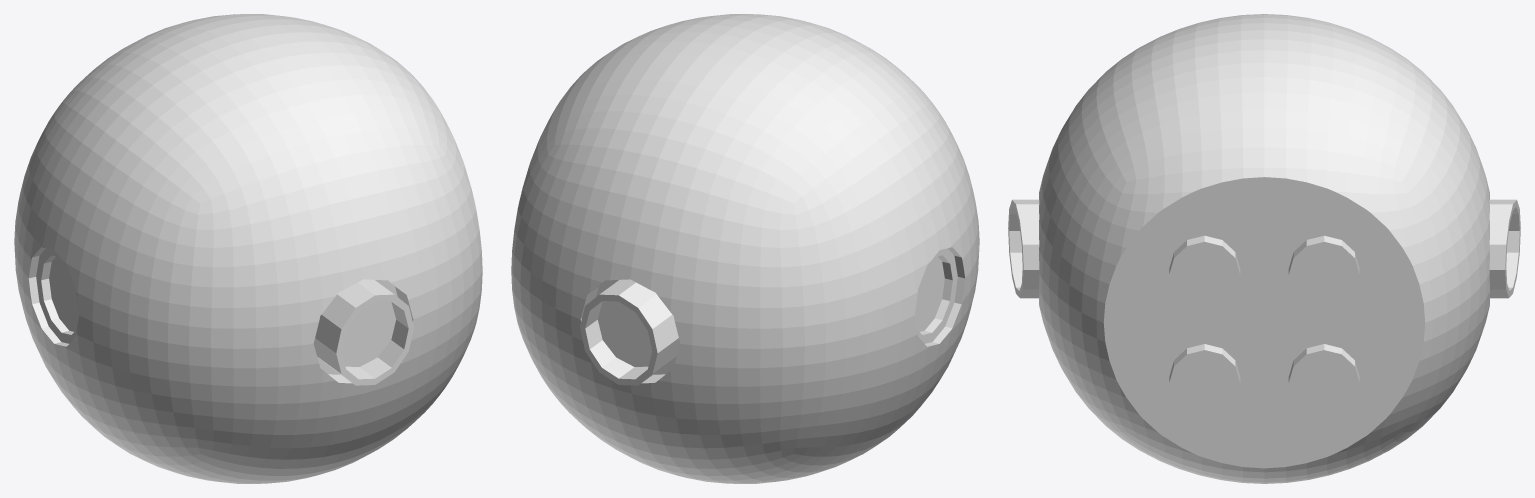
Rendered from drone.gltf.
The picture shows the model from 3 angles, left to right: view 1: azimuth 30°, elevation 25°; view 2: azimuth 150°, elevation 25°; view 3: azimuth 270°, elevation 25°; orthographic projection.
Visible parts, largest first — view 1: player; view 2: player; view 3: player.
Boxes of the visible parts, left/top/right/bottom form: player: left=14, top=14, right=482, bottom=483; player: left=511, top=14, right=979, bottom=483; player: left=1008, top=14, right=1520, bottom=483.
Bounding box in the file's own units: 1.51 × 1.68 × 1.86.
Materials: 1 (1 with a texture image).
